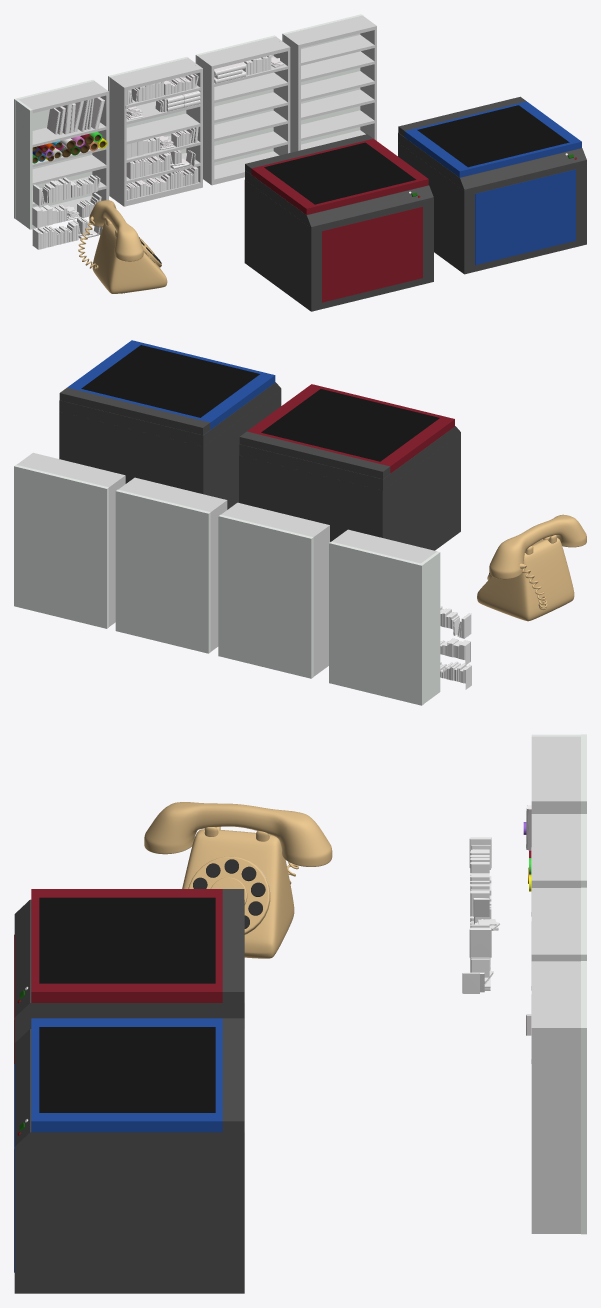
The model's file is InnovationLab.fbx.
3 views of the same model, one above another, from view 1: azimuth 30°, elevation 25°; view 2: azimuth 150°, elevation 25°; view 3: azimuth 270°, elevation 25° (orthographic). The views are drawn at different scales.
Parts seen in each view (by area): view 1: Cube.057, Cube.070, Cube.061, Cube.067, Cube.065, Cube.054, Plane, Cube.068, Cube.058, Cube.059, Cube.004, Cube.020 (+47 smaller); view 2: Cube.031, Cube.021, Cube, Cube.041, Cube.054, Cube.065, Cube.051, Cube.062, Cube.057, Plane, Cube.067, Circle (+21 smaller); view 3: Cube.062, Cube.054, Cube.065, Cube.042, Circle, Cube.064, Plane, Cube.053, Cube.069, Cube.063, Cube.052, Cube.059 (+13 smaller).
Part boxes in pixels (x1,y1,x2,y2): Cube.057: (244, 180, 433, 311); Cube.070: (475, 169, 575, 265); Cube.061: (322, 206, 422, 302); Cube.067: (398, 142, 586, 274); Cube.065: (417, 105, 569, 167); Cube.054: (264, 142, 416, 204); Plane: (92, 222, 167, 293); Cube.068: (398, 133, 586, 190); Cube.058: (245, 170, 433, 228); Cube.059: (251, 138, 428, 214); Cube.004: (16, 99, 32, 229); Cube.020: (110, 76, 126, 206); Cube.031: (115, 489, 210, 653); Cube.021: (218, 514, 313, 678); Cube: (329, 541, 423, 705); Cube.041: (14, 465, 108, 628); Cube.054: (261, 389, 439, 461); Cube.065: (81, 345, 259, 417); Cube.051: (239, 455, 382, 541); Cube.062: (59, 412, 202, 493); Cube.057: (383, 434, 460, 550); Plane: (477, 537, 574, 621); Cube.067: (203, 390, 281, 509); Circle: (489, 514, 586, 579); Cube.062: (14, 1149, 244, 1293); Cube.054: (39, 897, 215, 983); Cube.065: (39, 1027, 215, 1112); Cube.042: (531, 1025, 580, 1233); Circle: (144, 802, 332, 866); Cube.064: (31, 1018, 222, 1132); Plane: (182, 829, 294, 958); Cube.053: (31, 889, 222, 1002); Cube.069: (31, 1018, 222, 1121); Cube.063: (14, 1029, 244, 1148); Cube.052: (14, 901, 244, 1019); Cube.059: (31, 889, 222, 991).
Bounding box in the file's own units: 751 × 208 × 503.
